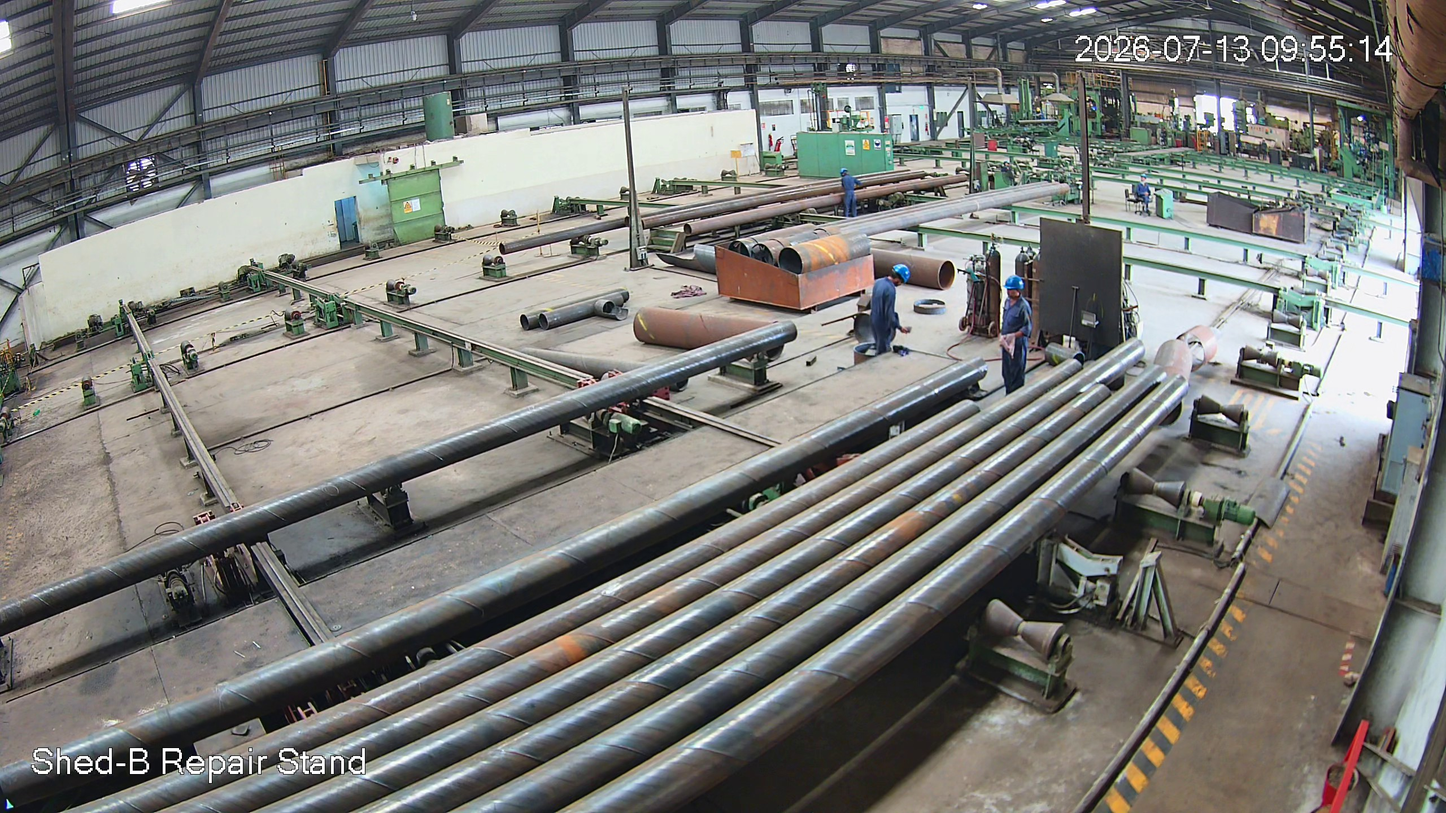Helmet: (886, 262, 913, 292), (1002, 274, 1029, 303)
Person: (868, 263, 913, 355), (998, 275, 1029, 394)
